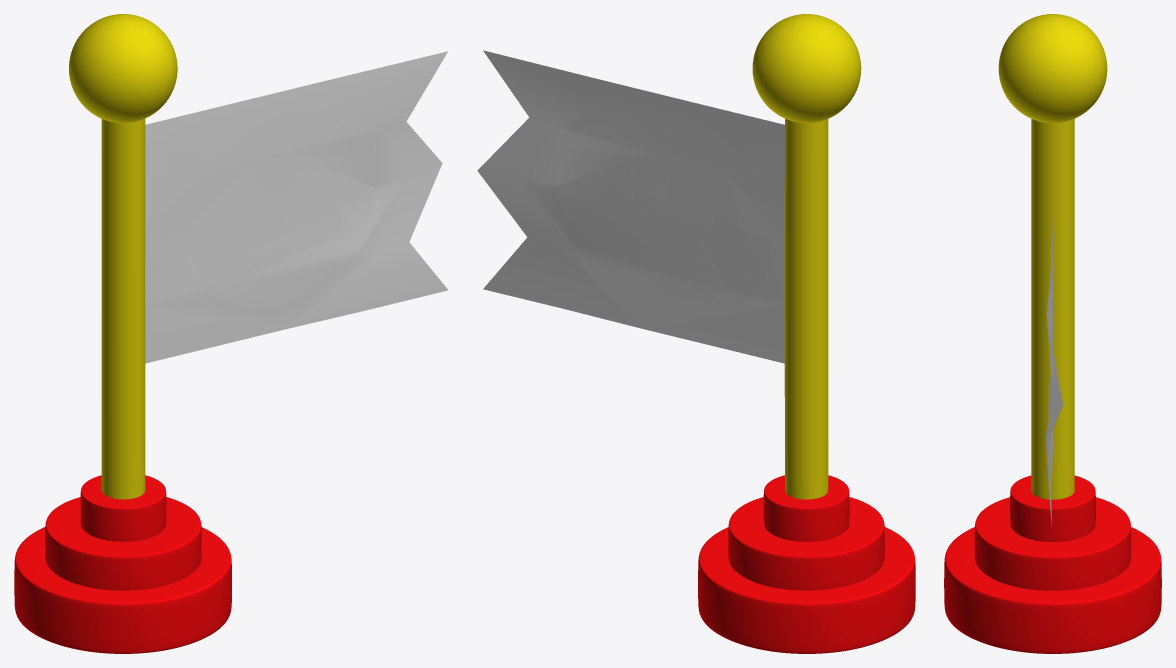
File: bandera.fbx
3 renders of one model, left to right at view 1: azimuth 30°, elevation 25°; view 2: azimuth 150°, elevation 25°; view 3: azimuth 270°, elevation 25°, orthographic.
Visible parts, largest first — view 1: Plano, Cilindro.003, Cilindro, Cilindro.001, Esfera, Cilindro.002; view 2: Plano, Cilindro.003, Cilindro, Cilindro.001, Esfera, Cilindro.002; view 3: Cilindro, Cilindro.003, Cilindro.001, Esfera, Cilindro.002, Plano.
Part boxes in pixels (<box>): Plano: <box>145,51,447,363</box>; Cilindro.003: <box>101,119,145,499</box>; Cilindro: <box>14,527,231,653</box>; Cilindro.001: <box>45,497,201,590</box>; Esfera: <box>69,14,177,123</box>; Cilindro.002: <box>80,475,166,541</box>; Plano: <box>477,50,784,363</box>; Cilindro.003: <box>784,119,828,499</box>; Cilindro: <box>698,527,915,653</box>; Cilindro.001: <box>728,497,884,590</box>; Esfera: <box>752,14,861,123</box>; Cilindro.002: <box>763,475,849,541</box>; Cilindro: <box>944,527,1161,653</box>; Cilindro.003: <box>1031,119,1074,499</box>; Cilindro.001: <box>974,497,1131,590</box>; Esfera: <box>998,14,1107,123</box>; Cilindro.002: <box>1010,475,1095,541</box>; Plano: <box>1046,217,1062,525</box>.
Bounding box in the file's own units: 441 × 594 × 199.
